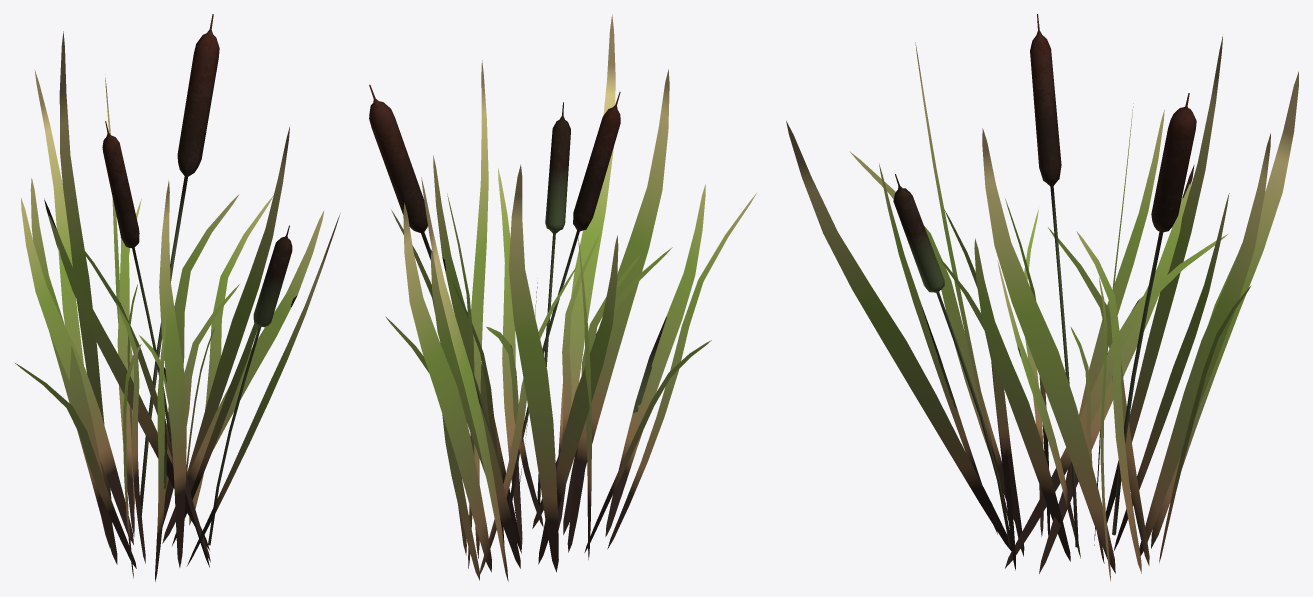
The model's file is tatarak-5.obj.
The picture shows the model from 3 angles, left to right: view 1: azimuth 30°, elevation 25°; view 2: azimuth 150°, elevation 25°; view 3: azimuth 270°, elevation 25°; orthographic projection. The views are drawn at different scales.
Parts seen in each view (by area): view 1: tatarak5; view 2: tatarak5; view 3: tatarak5.
Boxes of the visible parts, x1,y1,x2,y2 form: tatarak5: [15, 14, 340, 581]; tatarak5: [369, 14, 757, 581]; tatarak5: [786, 14, 1298, 581].
Size of the model in its own units: 0.484 by 0.7501 by 0.6672.
1 material, 1 textured.
